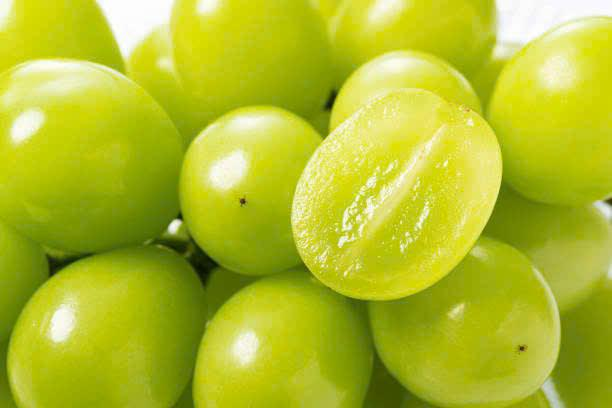grape: (302, 99, 484, 305), (348, 253, 574, 394), (155, 106, 328, 276), (27, 249, 205, 408), (5, 71, 166, 236), (203, 273, 364, 408), (489, 36, 612, 207), (162, 5, 343, 112)
